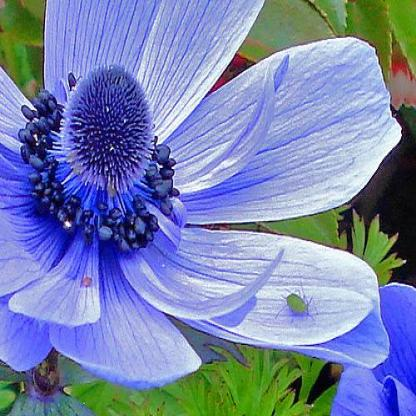aphid: (272, 276, 324, 331)
